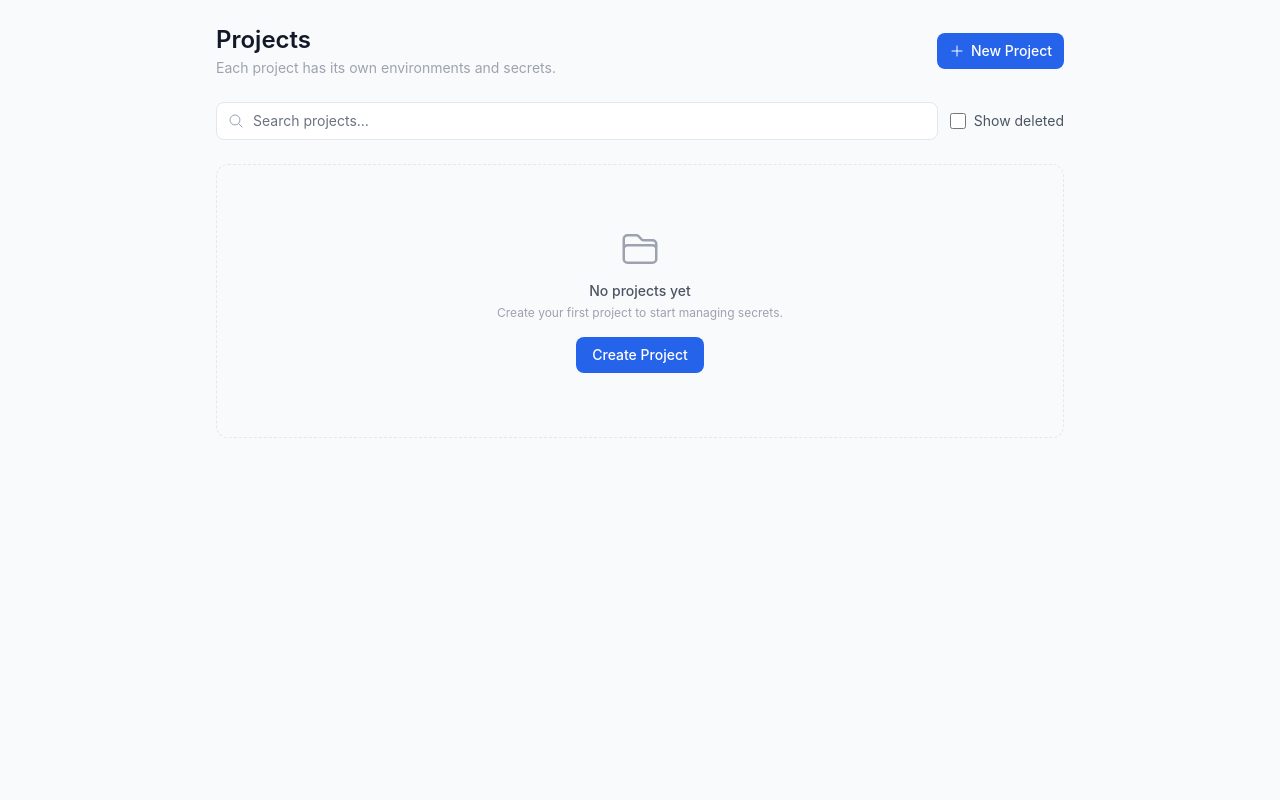
Test case: ProjectsListPage › shows the empty state when there are no projects, and lets you open the create modal from it
Expected: the text "No projects yet" is shown, [589,282,691,299]
Step 1. Click the button "Create Project" → click(640, 355), box [576,337,704,373]
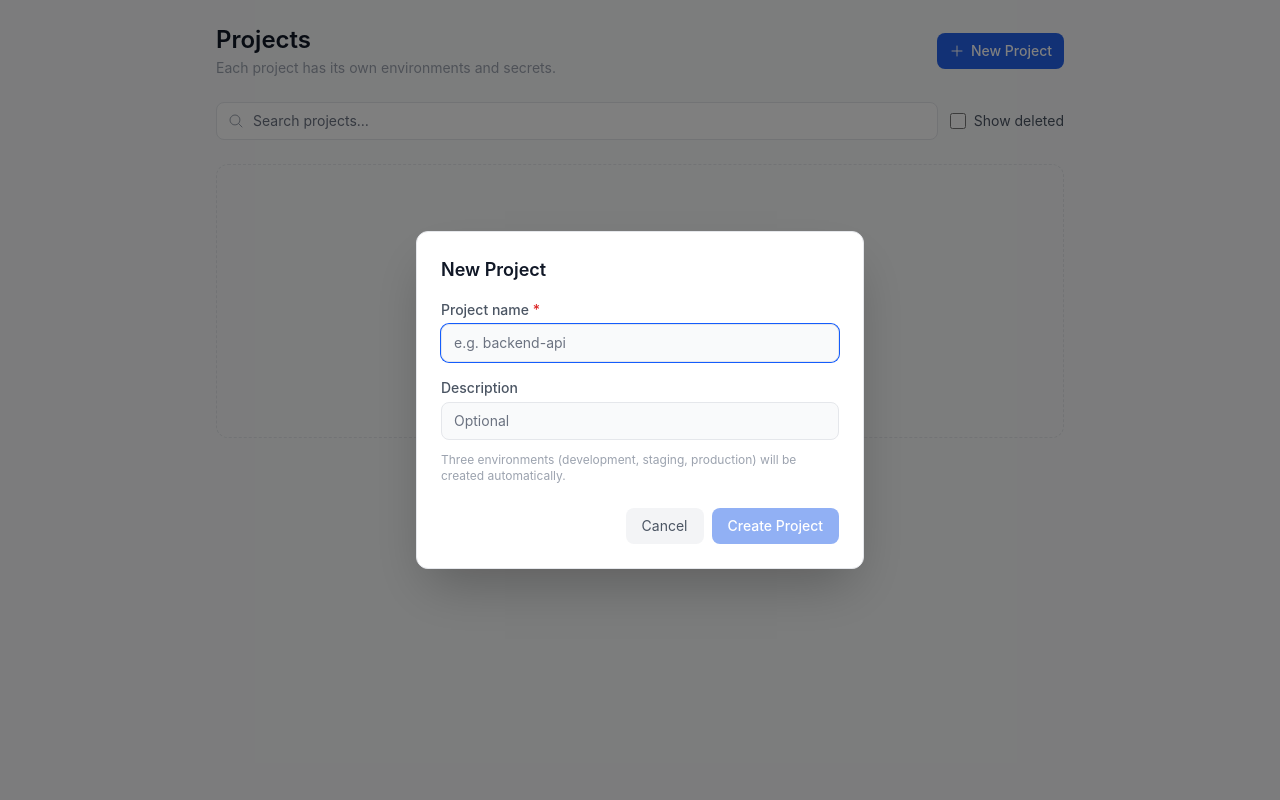
Expected: the heading "New Project" is shown, [441,259,546,280]
